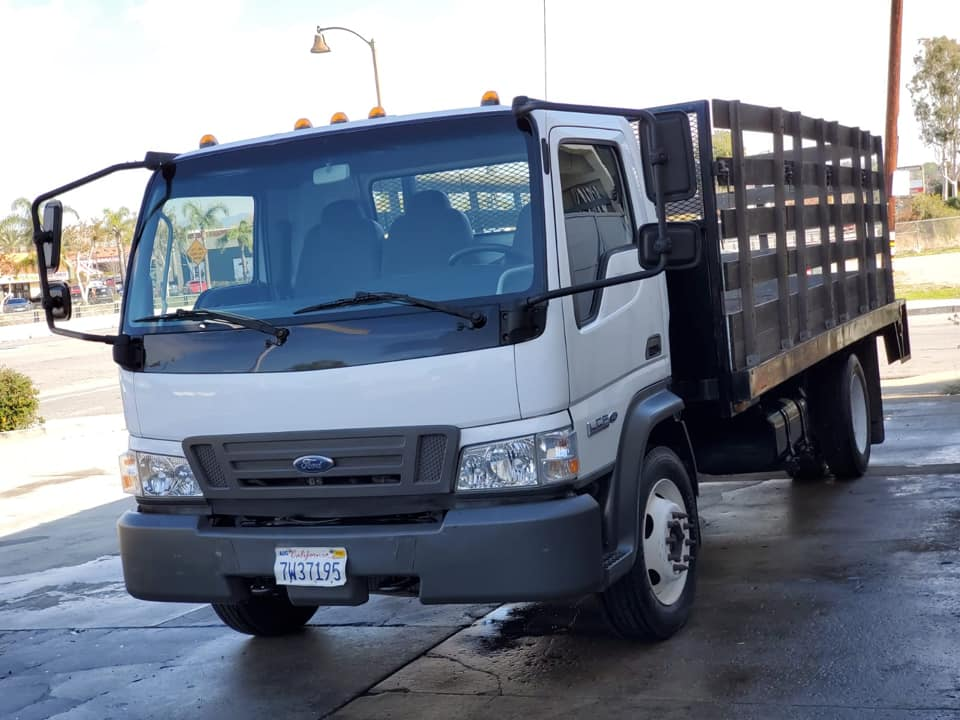camion: (114, 90, 919, 638)
